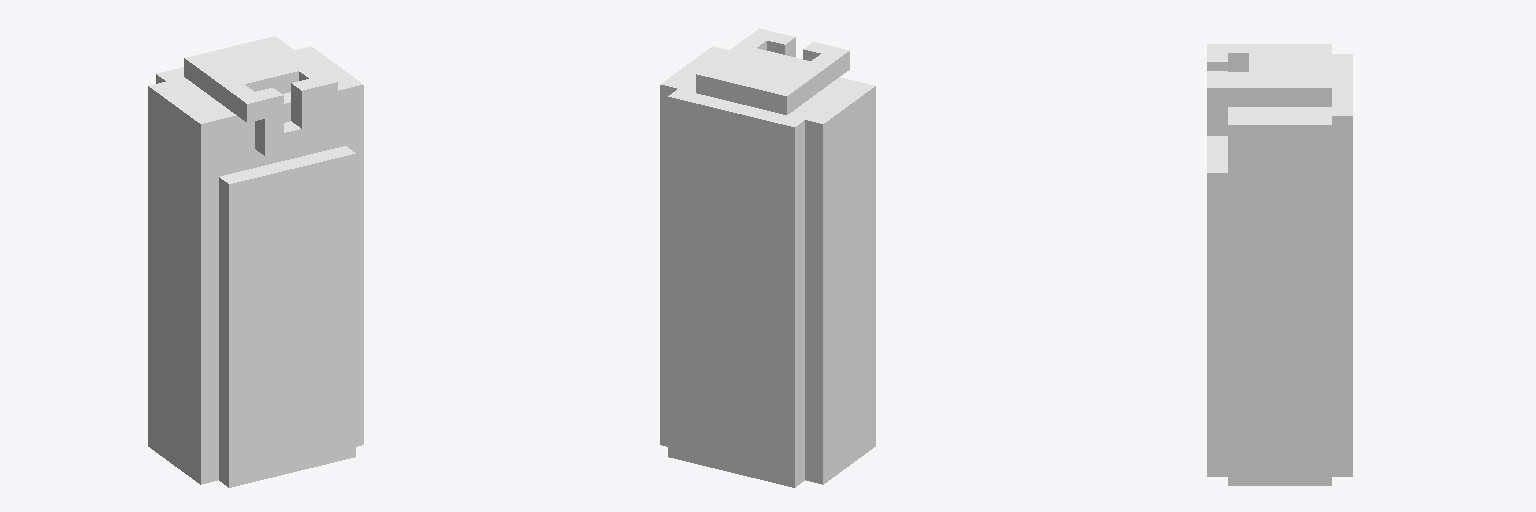
File: body_001.obj
3 views of the same model, side by side, from view 1: azimuth 30°, elevation 25°; view 2: azimuth 150°, elevation 25°; view 3: azimuth 270°, elevation 25° (orthographic).
Bounding box in the file's own units: 9 × 20 × 7.